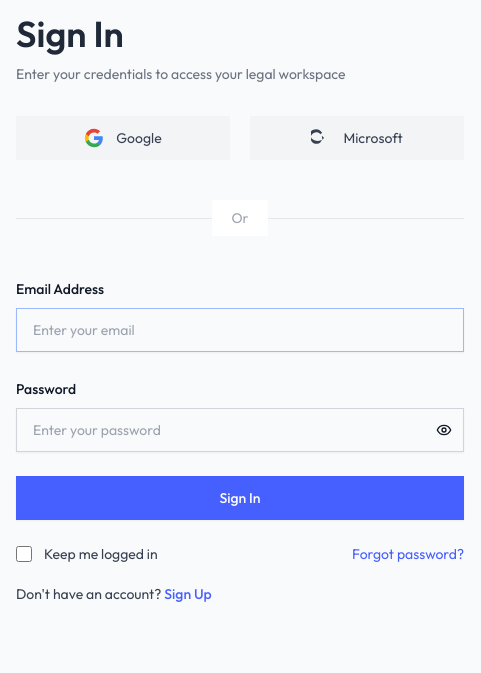
Test: LoginPage › Form Validation › should validate email field is required
Click the button "Sign In": point(240, 498) left=16, top=476, right=464, bottom=520
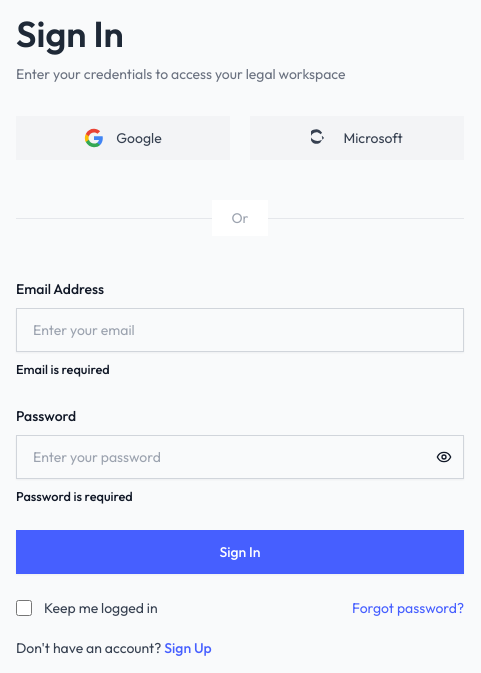
expect the text "Email is required" is shown: met, box left=16, top=361, right=110, bottom=377
